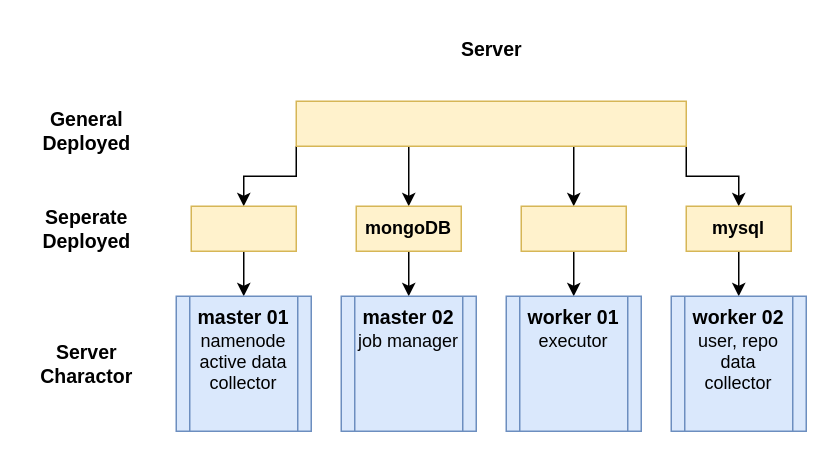
Some shapes in this 833 by 458 pixel diagram are drawn without their labels. The box of each missing label's shape, as (x1, y1, x2, y2) in pixels:
flume: (190, 205, 296, 251)
grafana: (520, 205, 626, 251)
Zookeeper Kafka HDFS HIVE Spark: (295, 100, 686, 146)
